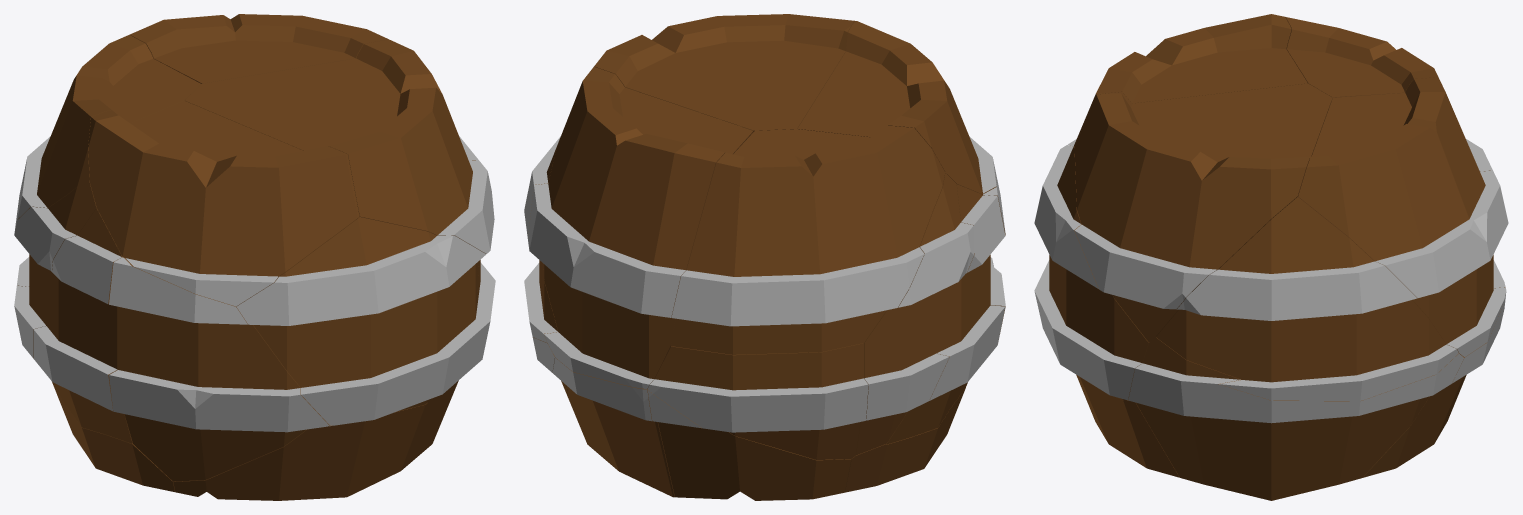
File: LowPolyKegShattered1.glb
3 renders of one model, left to right at view 1: azimuth 30°, elevation 25°; view 2: azimuth 150°, elevation 25°; view 3: azimuth 270°, elevation 25°, orthographic. The views are drawn at different scales.
Parts seen in each view (by area): view 1: Cylinder_cell.012, Cylinder_cell.001, Cylinder_cell.008, Cylinder_cell.014, Cylinder_cell.005, Cylinder_cell.002, Cylinder_cell.011, Cylinder_cell, Cylinder_cell.006, Cylinder_cell.009, Cylinder_cell.010; view 2: Cylinder_cell.011, Cylinder_cell, Cylinder_cell.008, Cylinder_cell.003, Cylinder_cell.012, Cylinder_cell.006, Cylinder_cell.013, Cylinder_cell.002, Cylinder_cell.007, Cylinder_cell.009, Cylinder_cell.004, Cylinder_cell.014; view 3: Cylinder_cell.008, Cylinder_cell.004, Cylinder_cell, Cylinder_cell.010, Cylinder_cell.001, Cylinder_cell.012, Cylinder_cell.011, Cylinder_cell.005, Cylinder_cell.007.
Boxes of the visible parts, bbox=[...] form: Cylinder_cell.012: bbox=[88, 100, 359, 306]; Cylinder_cell.001: bbox=[236, 217, 492, 425]; Cylinder_cell.008: bbox=[185, 39, 494, 276]; Cylinder_cell.014: bbox=[109, 257, 329, 481]; Cylinder_cell.005: bbox=[173, 380, 458, 500]; Cylinder_cell.002: bbox=[33, 208, 132, 443]; Cylinder_cell.011: bbox=[15, 34, 201, 226]; Cylinder_cell: bbox=[130, 14, 388, 83]; Cylinder_cell.006: bbox=[14, 183, 96, 358]; Cylinder_cell.009: bbox=[54, 387, 175, 491]; Cylinder_cell.010: bbox=[477, 264, 495, 304]; Cylinder_cell.011: bbox=[671, 125, 945, 354]; Cylinder_cell: bbox=[528, 66, 753, 388]; Cylinder_cell.008: bbox=[594, 14, 854, 131]; Cylinder_cell.003: bbox=[647, 343, 868, 459]; Cylinder_cell.012: bbox=[797, 21, 996, 194]; Cylinder_cell.006: bbox=[856, 172, 973, 455]; Cylinder_cell.013: bbox=[648, 390, 851, 500]; Cylinder_cell.002: bbox=[886, 184, 1005, 444]; Cylinder_cell.007: bbox=[552, 357, 674, 497]; Cylinder_cell.009: bbox=[845, 387, 965, 492]; Cylinder_cell.004: bbox=[524, 136, 560, 342]; Cylinder_cell.014: bbox=[982, 170, 1005, 333]; Cylinder_cell.008: bbox=[1074, 83, 1332, 342]; Cylinder_cell.004: bbox=[1156, 197, 1458, 401]; Cylinder_cell: bbox=[1298, 77, 1508, 357]; Cylinder_cell.010: bbox=[1128, 337, 1463, 500]; Cylinder_cell.001: bbox=[1034, 145, 1149, 400]; Cylinder_cell.012: bbox=[1068, 14, 1307, 146]; Cylinder_cell.011: bbox=[1285, 17, 1492, 171]; Cylinder_cell.005: bbox=[1076, 375, 1179, 477]; Cylinder_cell.007: bbox=[1362, 298, 1505, 477].
Bounding box in the file's own units: 263 × 212 × 269.
